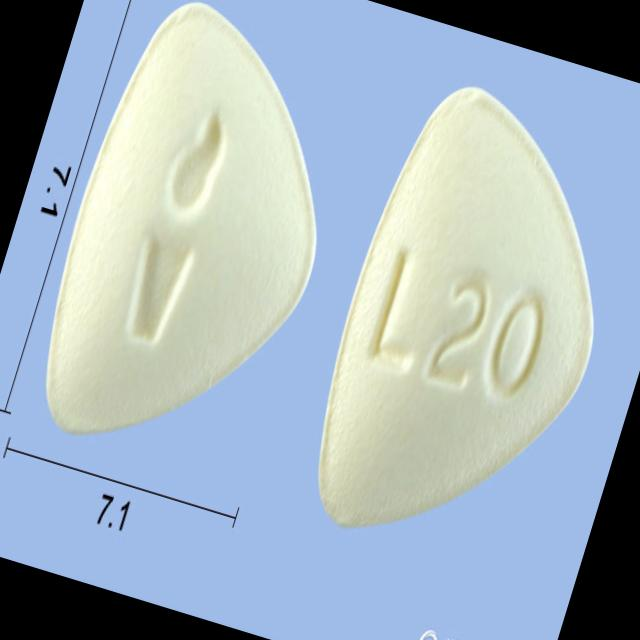Leflu - 10mg: (286, 64, 640, 584), (13, 0, 380, 488)
